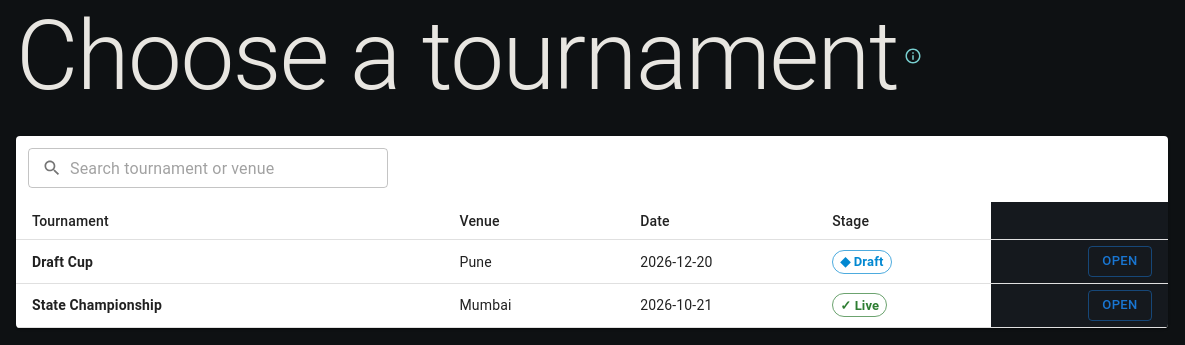
Test: TournamentSelector › finds a tournament by name or venue
Type "mumbai" into the field with placeholder "Search tournament or venue" at (229, 168), box [70,148,388,188]
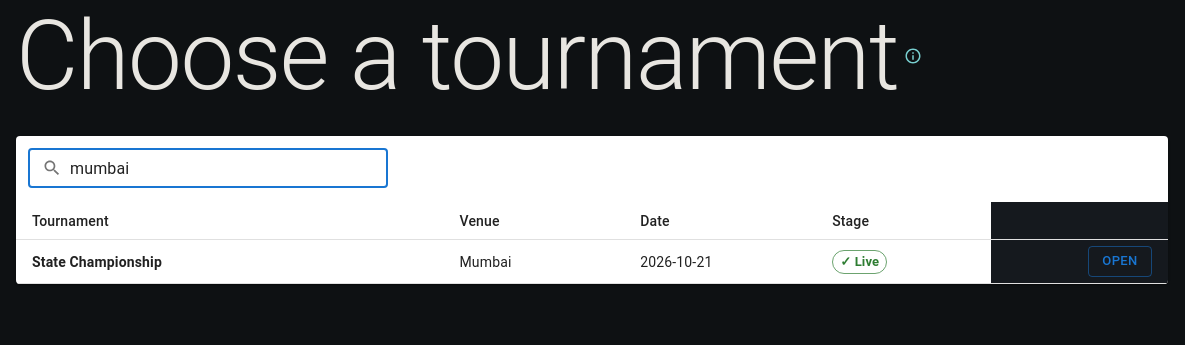
Check: the text "State Championship" is shown, box [32,254,162,270]
Check: the text "Draft Cup" is gone
